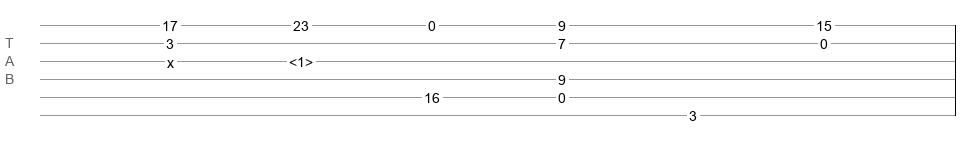0: (428, 18, 436, 28), (558, 90, 566, 100), (820, 36, 828, 46)
15: (816, 18, 832, 28)
16: (424, 90, 440, 100)
17: (162, 18, 178, 28)
23: (293, 18, 309, 28)
3: (166, 36, 174, 46), (689, 108, 697, 118)
7: (558, 36, 566, 46)
9: (558, 18, 566, 28), (558, 72, 566, 82)
harmonic: (289, 54, 313, 64)
x: (167, 55, 174, 63)
